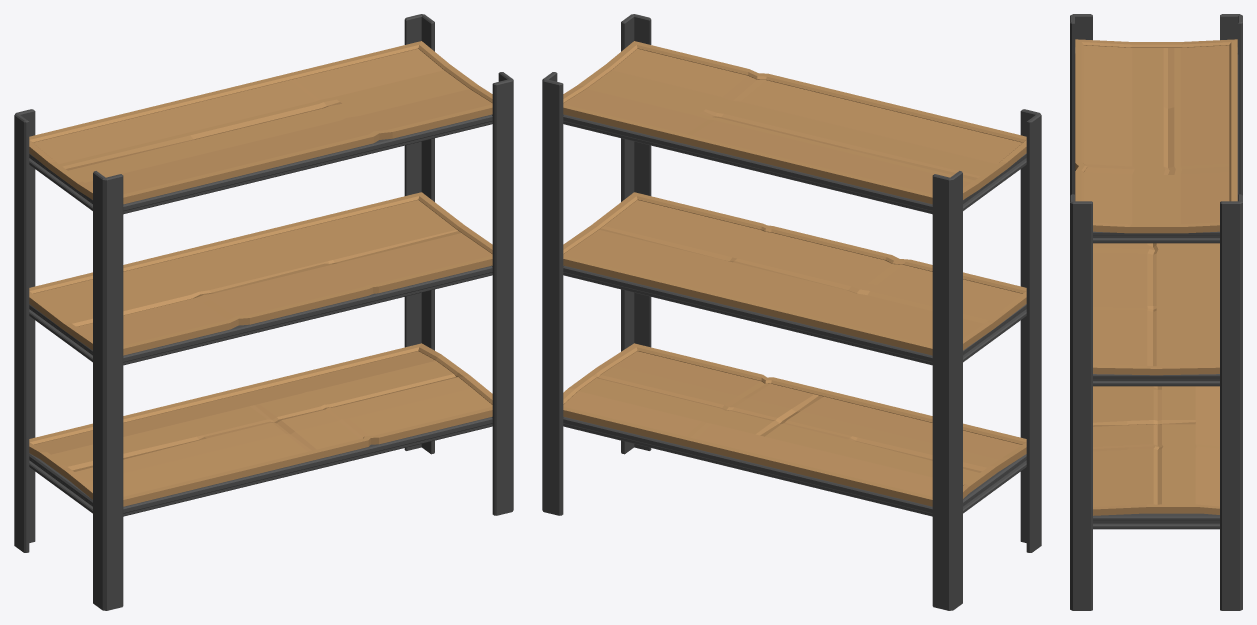
The model's file is shelves.fbx.
3 renders of one model, left to right at view 1: azimuth 30°, elevation 25°; view 2: azimuth 150°, elevation 25°; view 3: azimuth 270°, elevation 25°, orthographic. The views are drawn at different scales.
Visible parts, largest first — view 1: Plane.002, Cube.002, Cube.004, Cube.003; view 2: Plane.002, Cube.002, Cube.004, Cube.003; view 3: Plane.002, Cube.002, Cube.003, Cube.004.
Boxes of the visible parts, x1,y1,x2,y2 form: Plane.002: [29, 41, 492, 506]; Cube.002: [14, 14, 513, 610]; Cube.004: [123, 114, 492, 516]; Cube.003: [29, 114, 492, 513]; Plane.002: [563, 41, 1026, 506]; Cube.002: [542, 14, 1041, 610]; Cube.004: [563, 114, 932, 516]; Cube.003: [563, 114, 1026, 513]; Plane.002: [1075, 39, 1237, 515]; Cube.002: [1070, 14, 1242, 610]; Cube.003: [1075, 47, 1237, 529]; Cube.004: [1074, 54, 1238, 200].
Size of the model in its own units: 128 by 128 by 49.33.
